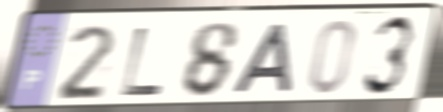0: (306, 18, 359, 97)
2: (52, 23, 119, 103)
3: (360, 13, 425, 98)
8: (182, 20, 241, 100)
A: (230, 21, 296, 96)
L: (117, 24, 167, 99)
